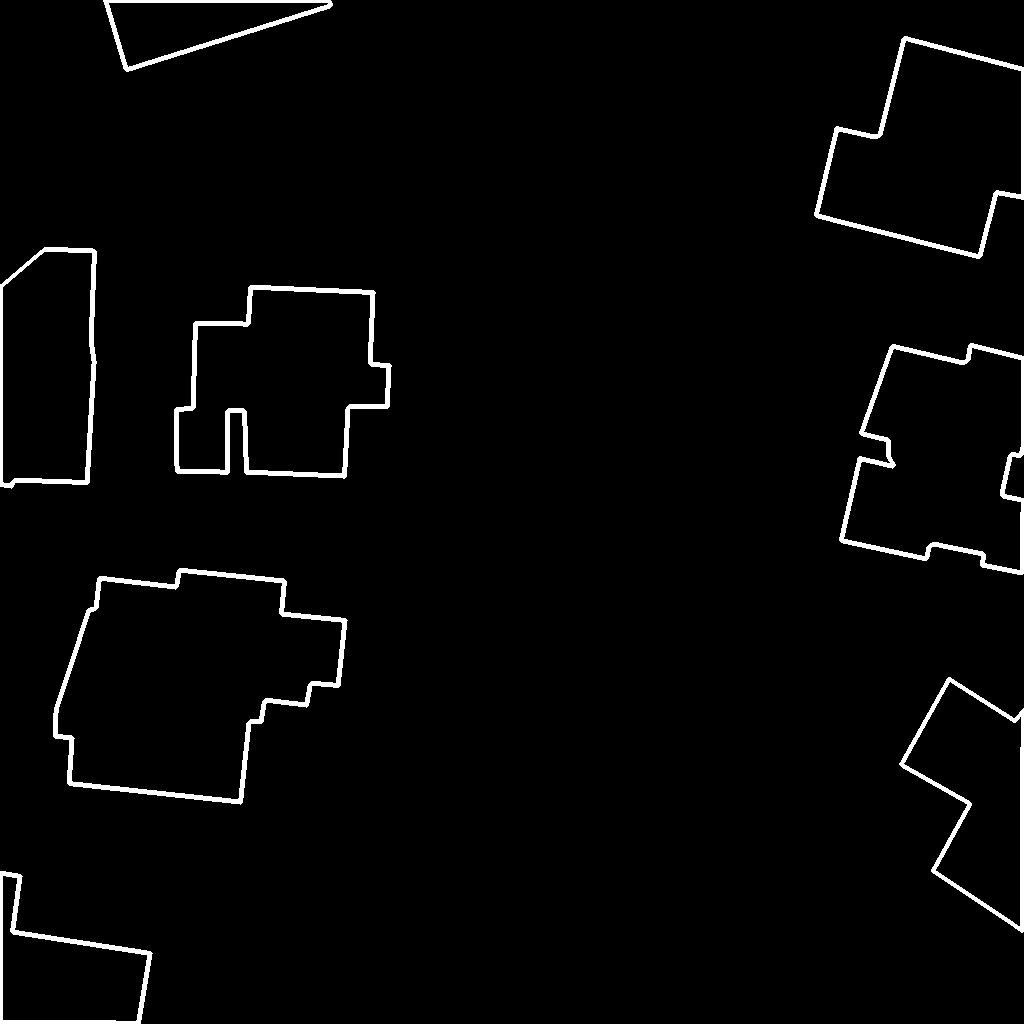building: (55, 570, 346, 803), (816, 38, 1024, 258), (841, 345, 1024, 574), (176, 287, 390, 477), (901, 679, 1024, 932), (0, 249, 96, 487), (0, 873, 151, 1024), (105, 0, 332, 71)
